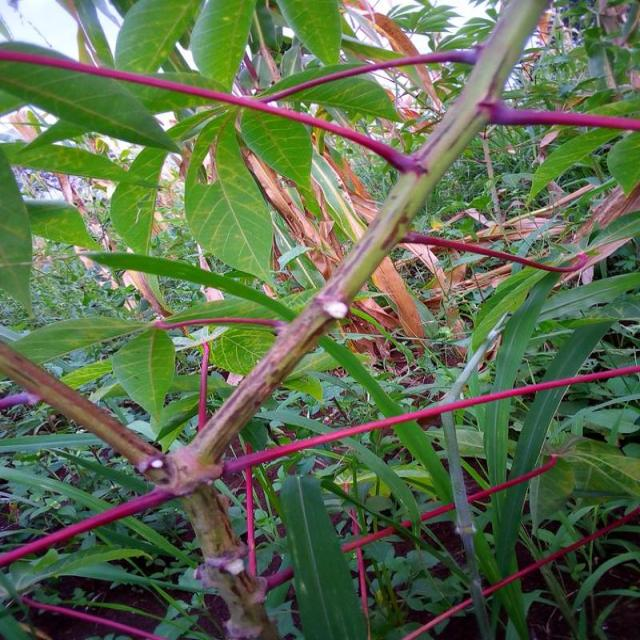cassava leaf: (184, 103, 275, 286), (280, 472, 370, 638), (113, 323, 177, 429)
